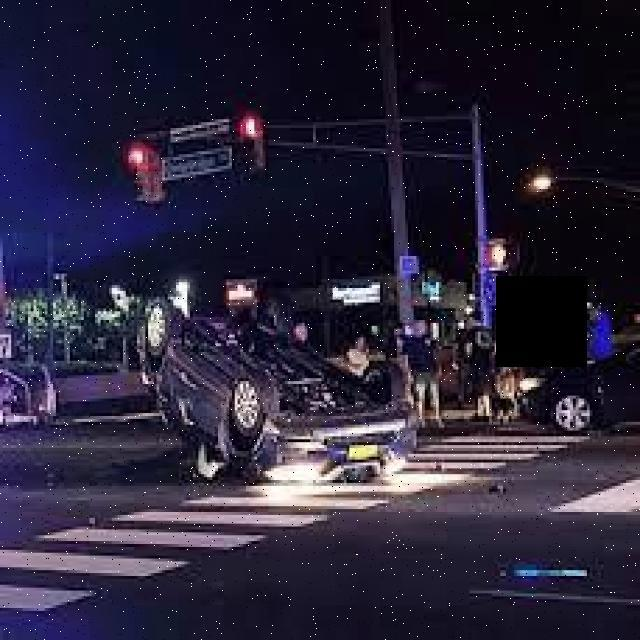severe: (150, 302, 420, 480)
